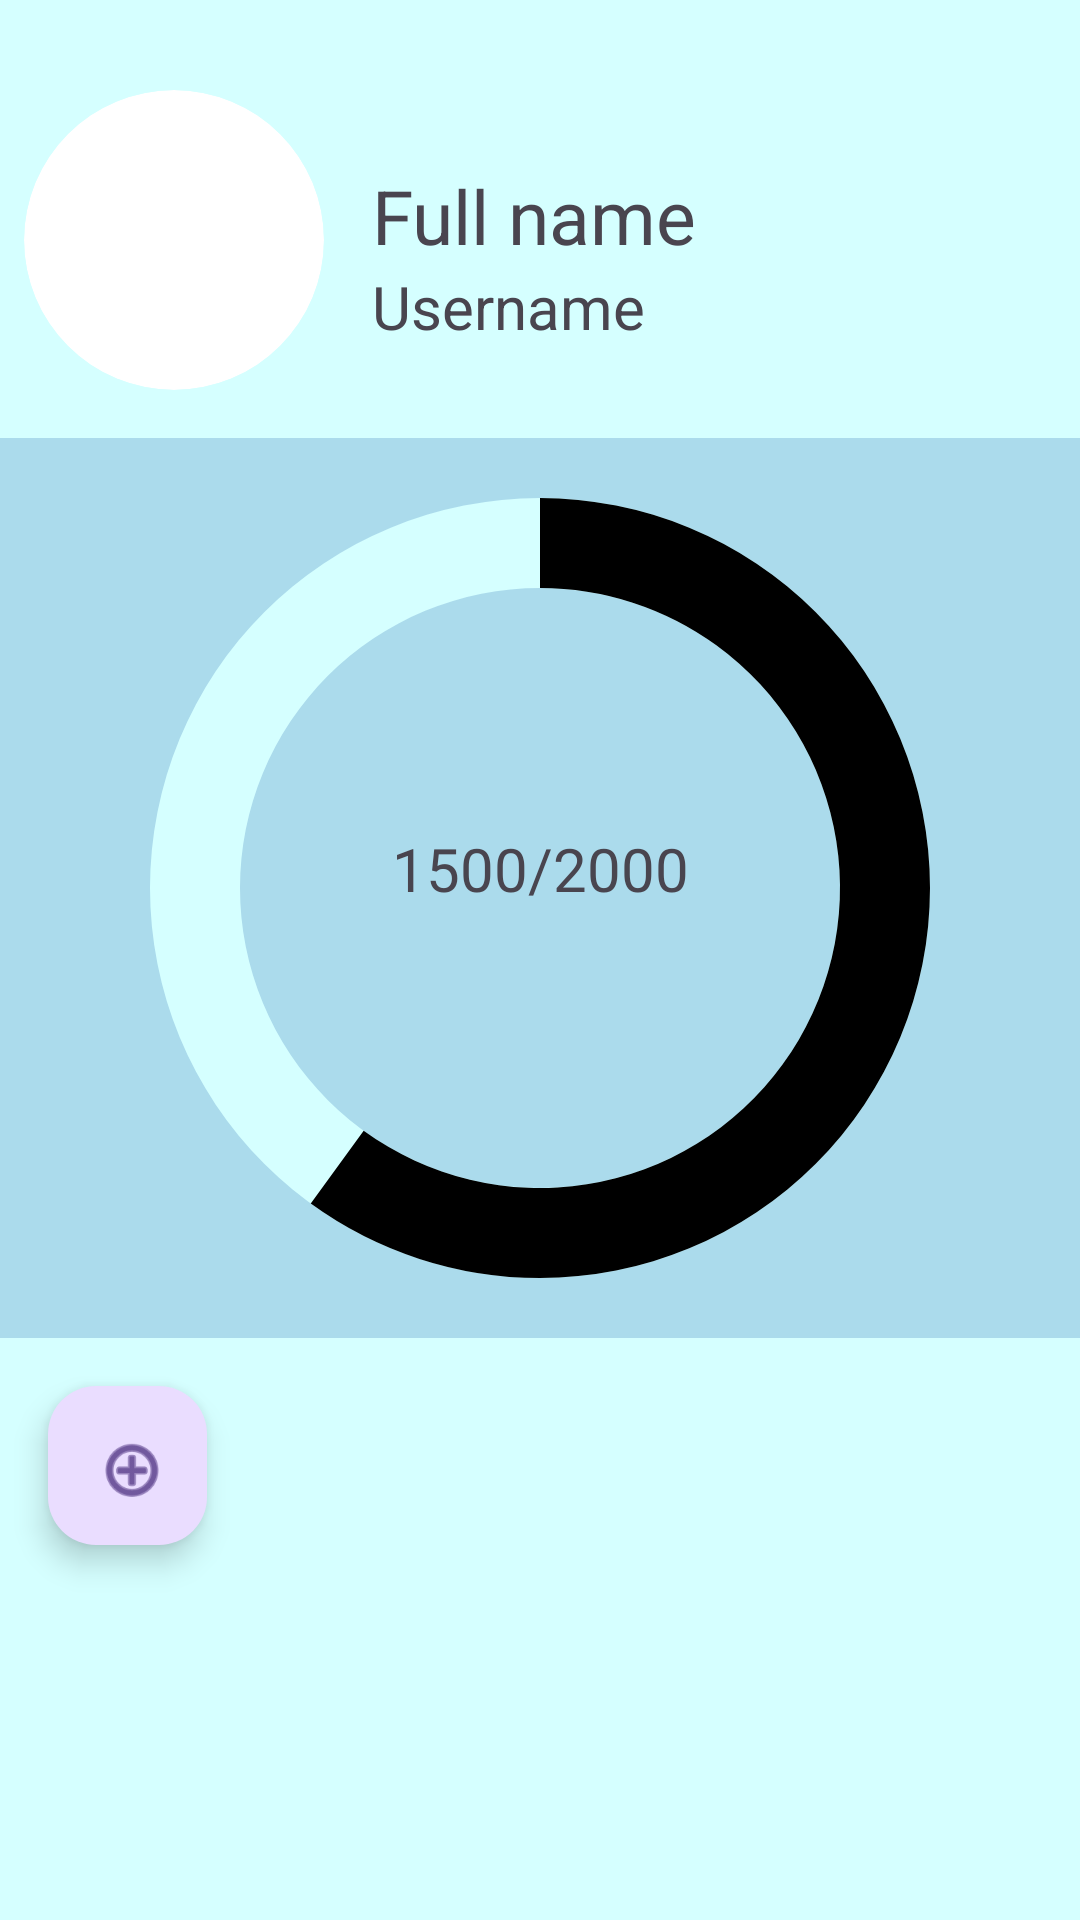

Point at icon controls on the screen. Image size 1080*1920, points as point (x, y).
add: point (127, 1465)
